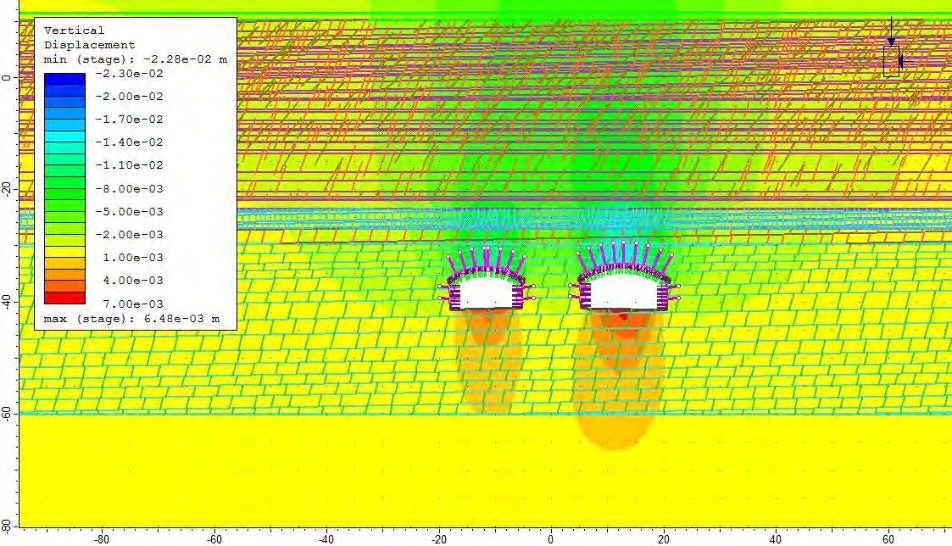crown: (614, 251, 635, 265), (476, 255, 495, 267)
label: (36, 15, 237, 329)
tunnel-opening: (582, 266, 669, 310), (450, 269, 523, 310)
